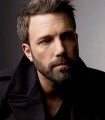male: (14, 3, 88, 88)
